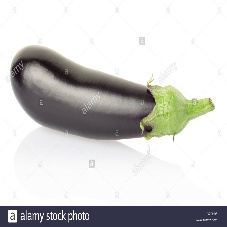eggplant: (11, 44, 188, 143)
